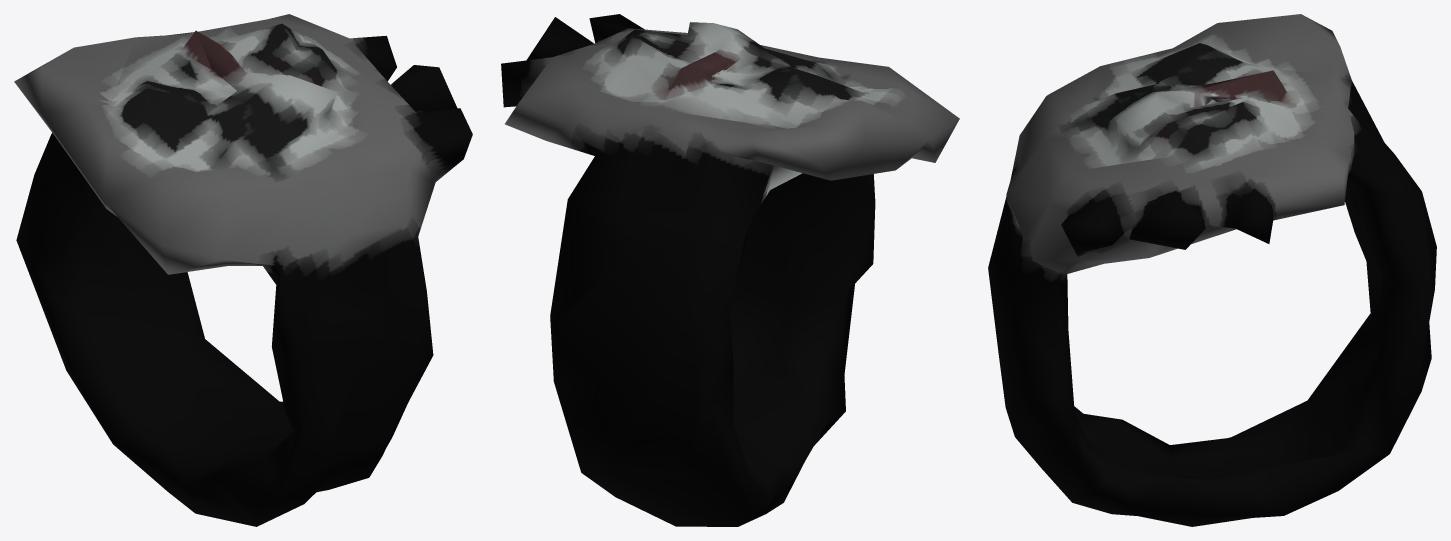
File: argo white.glb
3 renders of one model, left to right at view 1: azimuth 30°, elevation 25°; view 2: azimuth 150°, elevation 25°; view 3: azimuth 270°, elevation 25°, orthographic. The views are drawn at different scales.
Parts seen in each view (by area): view 1: watch_argo_white.001; view 2: watch_argo_white.001; view 3: watch_argo_white.001.
Boxes of the visible parts, box(x1,y1,x2,y2) form: watch_argo_white.001: box(14, 14, 472, 526); watch_argo_white.001: box(501, 14, 959, 526); watch_argo_white.001: box(988, 14, 1436, 526).
Bounding box in the file's own units: 0.0439 × 0.0522 × 0.0477.
Materials: 1 (1 with a texture image).
